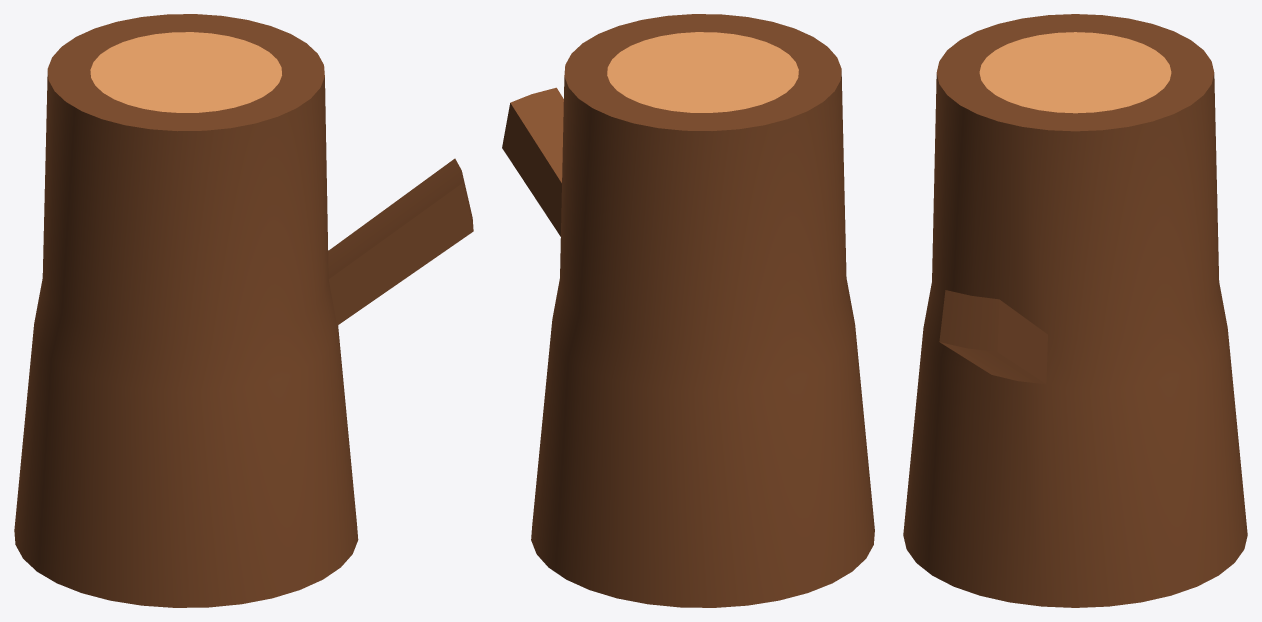
File: kütük.fbx
The picture shows the model from 3 angles, left to right: view 1: azimuth 30°, elevation 25°; view 2: azimuth 150°, elevation 25°; view 3: azimuth 270°, elevation 25°; orthographic projection.
Visible parts, largest first — view 1: kutuk, kuutk; view 2: kutuk, kuutk; view 3: kutuk, kuutk.
Boxes of the visible parts, x1,y1,x2,y2 form: kutuk: (14, 14, 473, 607); kuutk: (90, 32, 281, 112); kutuk: (502, 14, 874, 607); kuutk: (607, 32, 798, 112); kutuk: (903, 14, 1247, 607); kuutk: (979, 32, 1171, 113).
Size of the model in its own units: 261 by 296 by 200.
